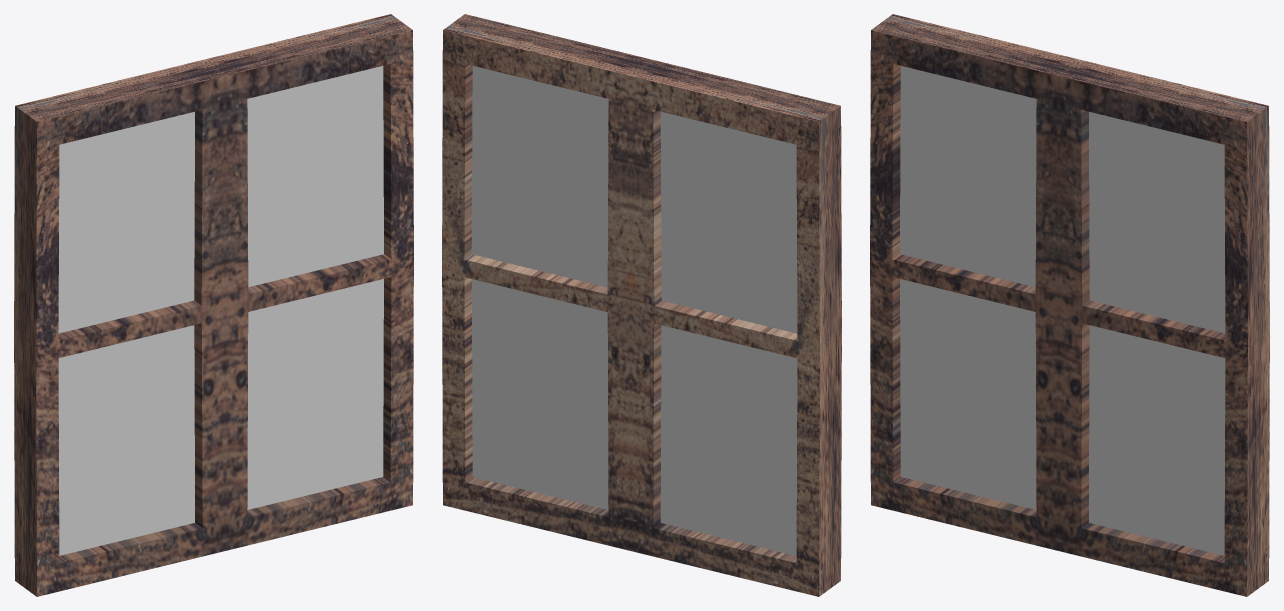
File: Window.fbx
3 renders of one model, left to right at view 1: azimuth 30°, elevation 25°; view 2: azimuth 150°, elevation 25°; view 3: azimuth 330°, elevation 25°, orthographic.
Visible parts, largest first — view 1: Cube; view 2: Cube; view 3: Cube.
Boxes of the visible parts, x1=… form: Cube: x1=14, y1=14, x2=413, y2=596; Cube: x1=442, y1=14, x2=841, y2=596; Cube: x1=870, y1=14, x2=1269, y2=596.
Size of the model in its own units: 604 by 726 by 61.09.
